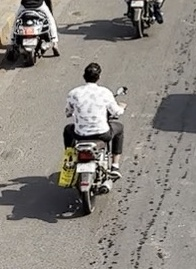BikeWithRider: (53, 58, 131, 216)
NoHelmet: (78, 58, 106, 87)
